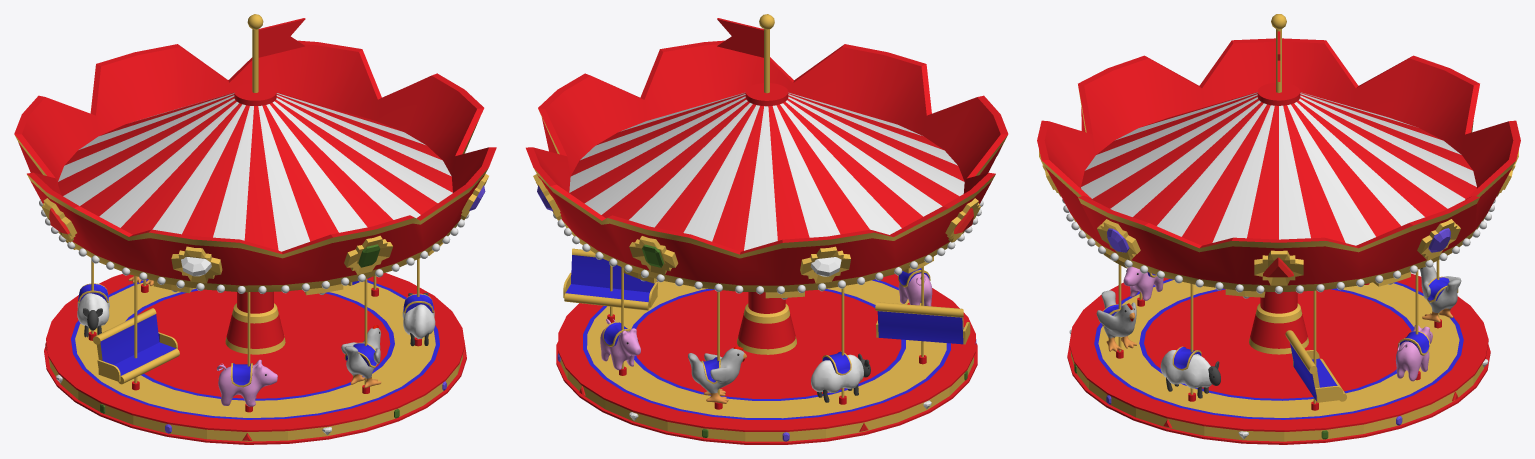
The model's file is carousel.fbx.
3 views of the same model, side by side, from view 1: azimuth 30°, elevation 25°; view 2: azimuth 150°, elevation 25°; view 3: azimuth 270°, elevation 25° (orthographic).
Visible parts, largest first — view 1: Carousel Top, Carousel, Pole Bench 2, Pole Pig 2, Pole Chicken 2, Pole Sheep 2, Pole Sheep 1; view 2: Carousel Top, Carousel, Pole Bench 1, Pole Bench 2, Pole Sheep 1, Pole Chicken 1, Pole Pig 1, Pole Pig 2; view 3: Carousel Top, Carousel, Pole Sheep 2, Pole Bench 1, Pole Chicken 2, Pole Pig 1, Pole Chicken 1, Pole Pig 2.
Part boxes in pixels (x1,y1,x2,y2): Carousel Top: (14, 14, 496, 354); Carousel: (44, 240, 466, 444); Pole Bench 2: (93, 276, 179, 384); Pole Pig 2: (216, 292, 277, 406); Pole Chicken 2: (341, 278, 381, 388); Pole Sheep 2: (402, 258, 435, 346); Pole Sheep 1: (77, 258, 109, 337); Carousel Top: (526, 14, 1008, 354); Carousel: (556, 256, 977, 444); Pole Bench 1: (563, 248, 657, 316); Pole Bench 2: (875, 266, 970, 357); Pole Sheep 1: (811, 288, 870, 402); Pole Chicken 1: (688, 292, 746, 403); Pole Pig 1: (600, 267, 640, 370); Pole Pig 2: (897, 268, 932, 306); Carousel Top: (1037, 14, 1520, 354); Carousel: (1067, 253, 1490, 444); Pole Sheep 2: (1160, 284, 1220, 398); Pole Bench 1: (1285, 290, 1346, 403); Pole Chicken 2: (1096, 264, 1136, 351); Pole Pig 1: (1395, 269, 1432, 381); Pole Chicken 1: (1419, 260, 1461, 322); Pole Pig 2: (1123, 266, 1163, 300).
Bounding box in the file's own units: 915 × 915 × 711.
